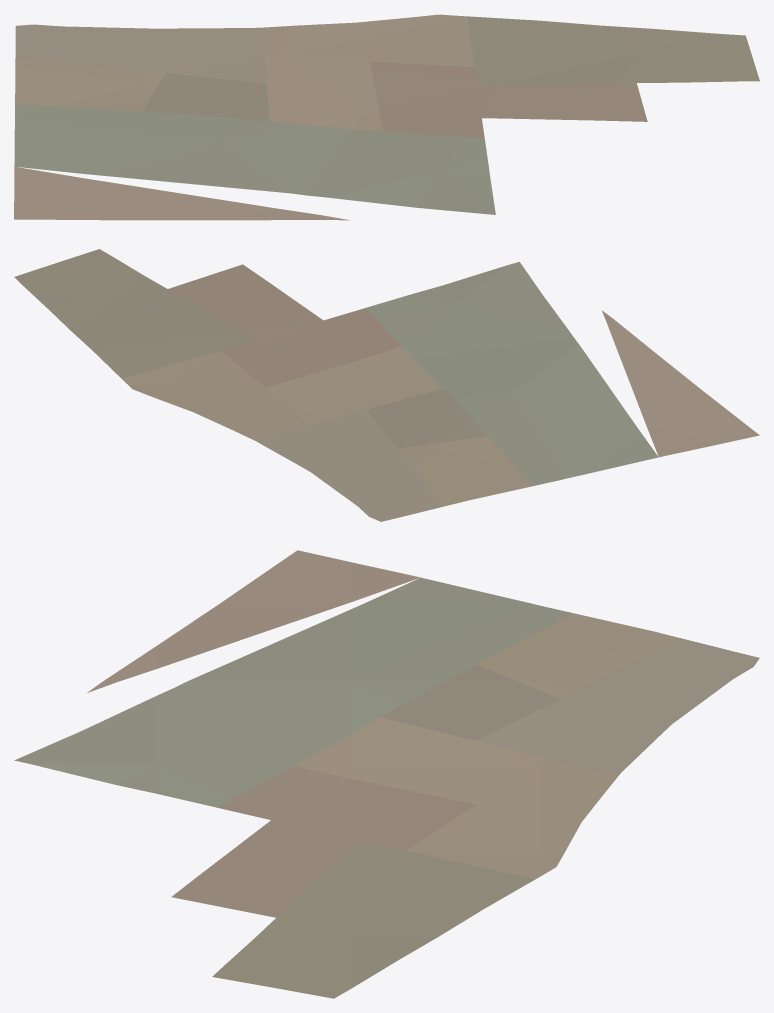
The model's file is farm_23_17_soil.glb.
The picture shows the model from 3 angles, top to bottom: view 1: azimuth 30°, elevation 25°; view 2: azimuth 150°, elevation 25°; view 3: azimuth 270°, elevation 25°; orthographic projection. The views are drawn at different scales.
Visible parts, largest first — view 1: geometry_0; view 2: geometry_0; view 3: geometry_0.
Part boxes in pixels (x1,y1,x2,y2): geometry_0: (14, 14, 759, 220); geometry_0: (14, 249, 759, 521); geometry_0: (14, 550, 759, 998).
Size of the model in its own units: 431 by 8.15 by 311.
